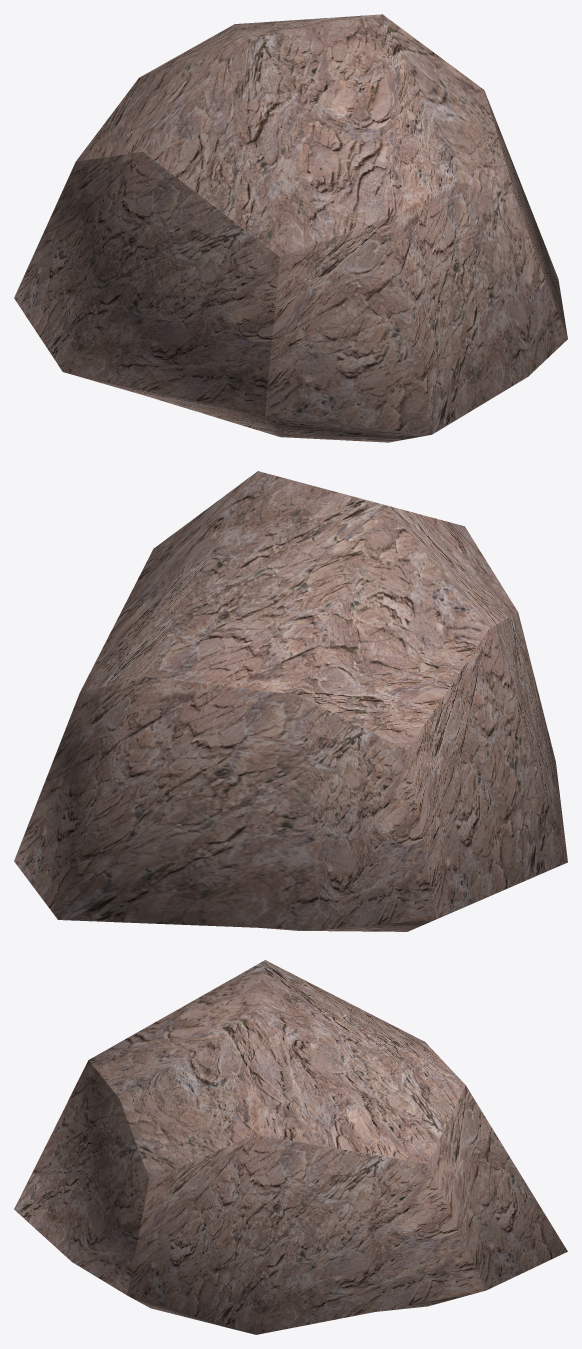
File: Stone_02.FBX
3 renders of one model, top to bottom at view 1: azimuth 30°, elevation 25°; view 2: azimuth 150°, elevation 25°; view 3: azimuth 270°, elevation 25°, orthographic. The views are drawn at different scales.
Visible parts, largest first — view 1: Box001; view 2: Box001; view 3: Box001.
Boxes of the visible parts, box(x1,y1,x2,y2) form: Box001: box(14, 14, 567, 442); Box001: box(14, 471, 567, 931); Box001: box(14, 960, 567, 1334).
Bounding box in the file's own units: 46.49 × 31.86 × 56.21.
